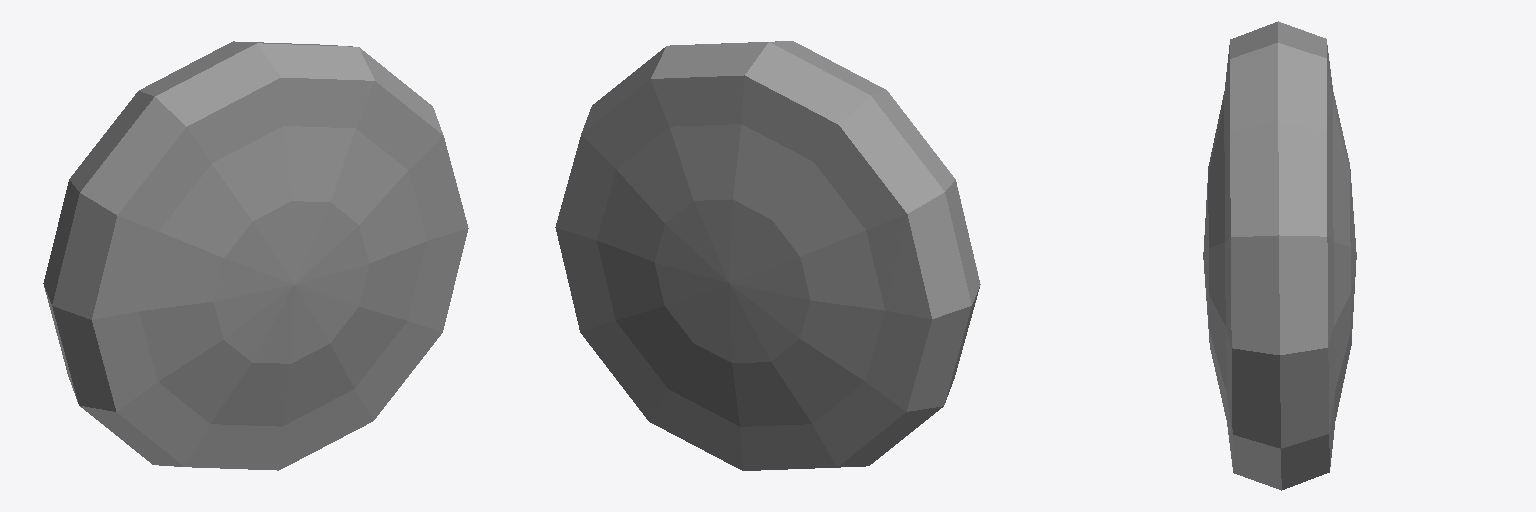
The model's file is target.obj.
3 renders of one model, left to right at view 1: azimuth 30°, elevation 25°; view 2: azimuth 150°, elevation 25°; view 3: azimuth 270°, elevation 25°, orthographic.
Parts seen in each view (by area): view 1: Sphere_Sphere.001; view 2: Sphere_Sphere.001; view 3: Sphere_Sphere.001.
Part boxes in pixels (bbox=[...]): Sphere_Sphere.001: bbox=[43, 41, 468, 470]; Sphere_Sphere.001: bbox=[555, 41, 980, 470]; Sphere_Sphere.001: bbox=[1203, 21, 1356, 490].
Size of the model in its own units: 13.62 by 13.62 by 4.44.